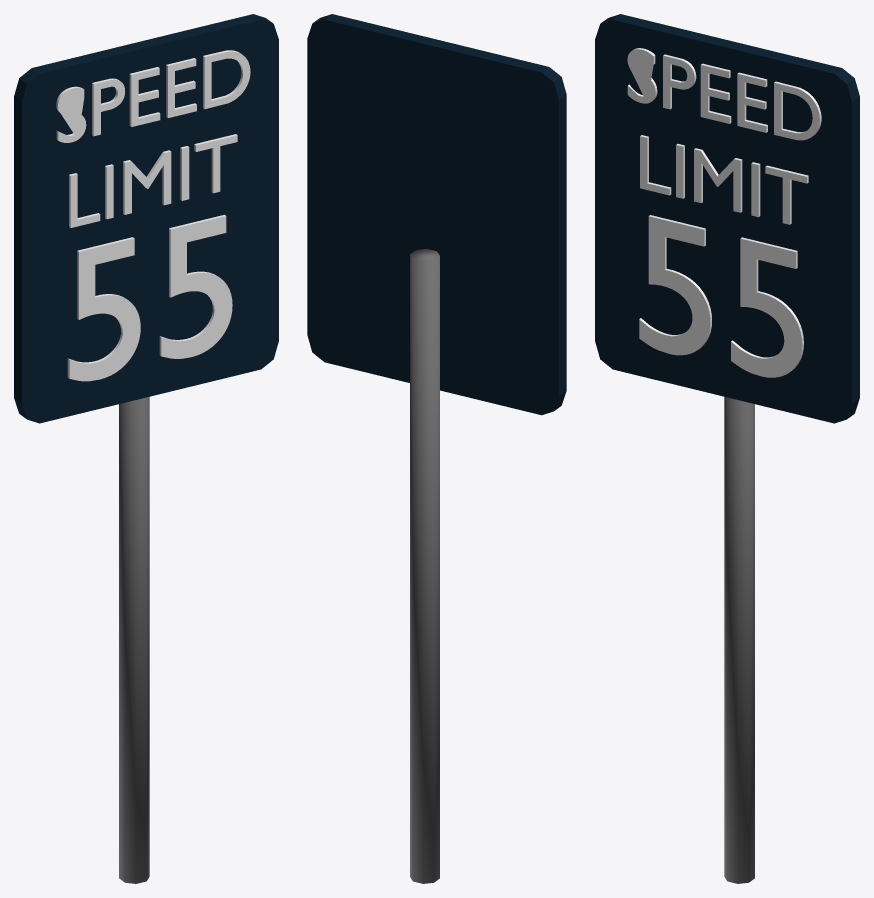
The model's file is Prop_StreetSign_Speed_55.fbx.
3 views of the same model, side by side, from view 1: azimuth 30°, elevation 25°; view 2: azimuth 150°, elevation 25°; view 3: azimuth 330°, elevation 25° (orthographic). The views are drawn at different scales.
Parts seen in each view (by area): view 1: Prop_StreetSign_Speed_55; view 2: Prop_StreetSign_Speed_55; view 3: Prop_StreetSign_Speed_55.
Part boxes in pixels (x1,y1,x2,y2): Prop_StreetSign_Speed_55: (14,14,278,883); Prop_StreetSign_Speed_55: (307,14,566,883); Prop_StreetSign_Speed_55: (595,14,859,883).
Size of the model in its own units: 140 by 438 by 23.65.
